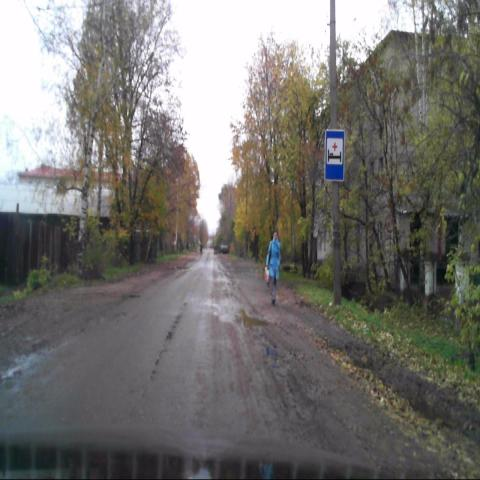7_2: (325, 129, 345, 180)
